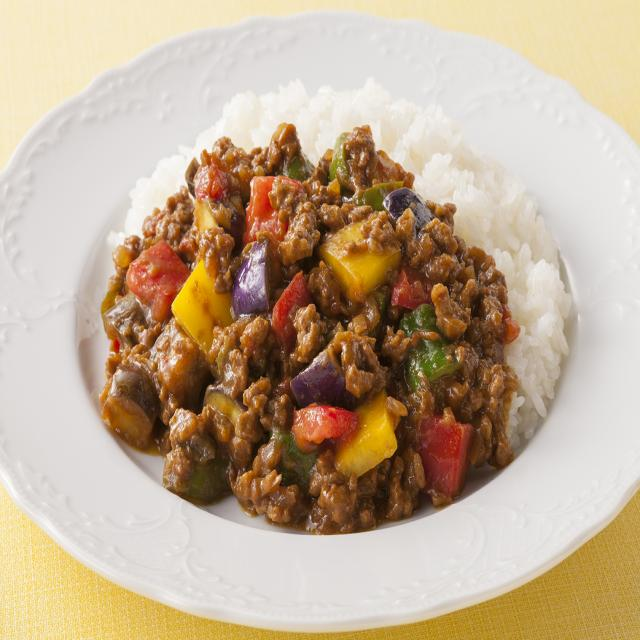Wet: (95, 89, 580, 536)
